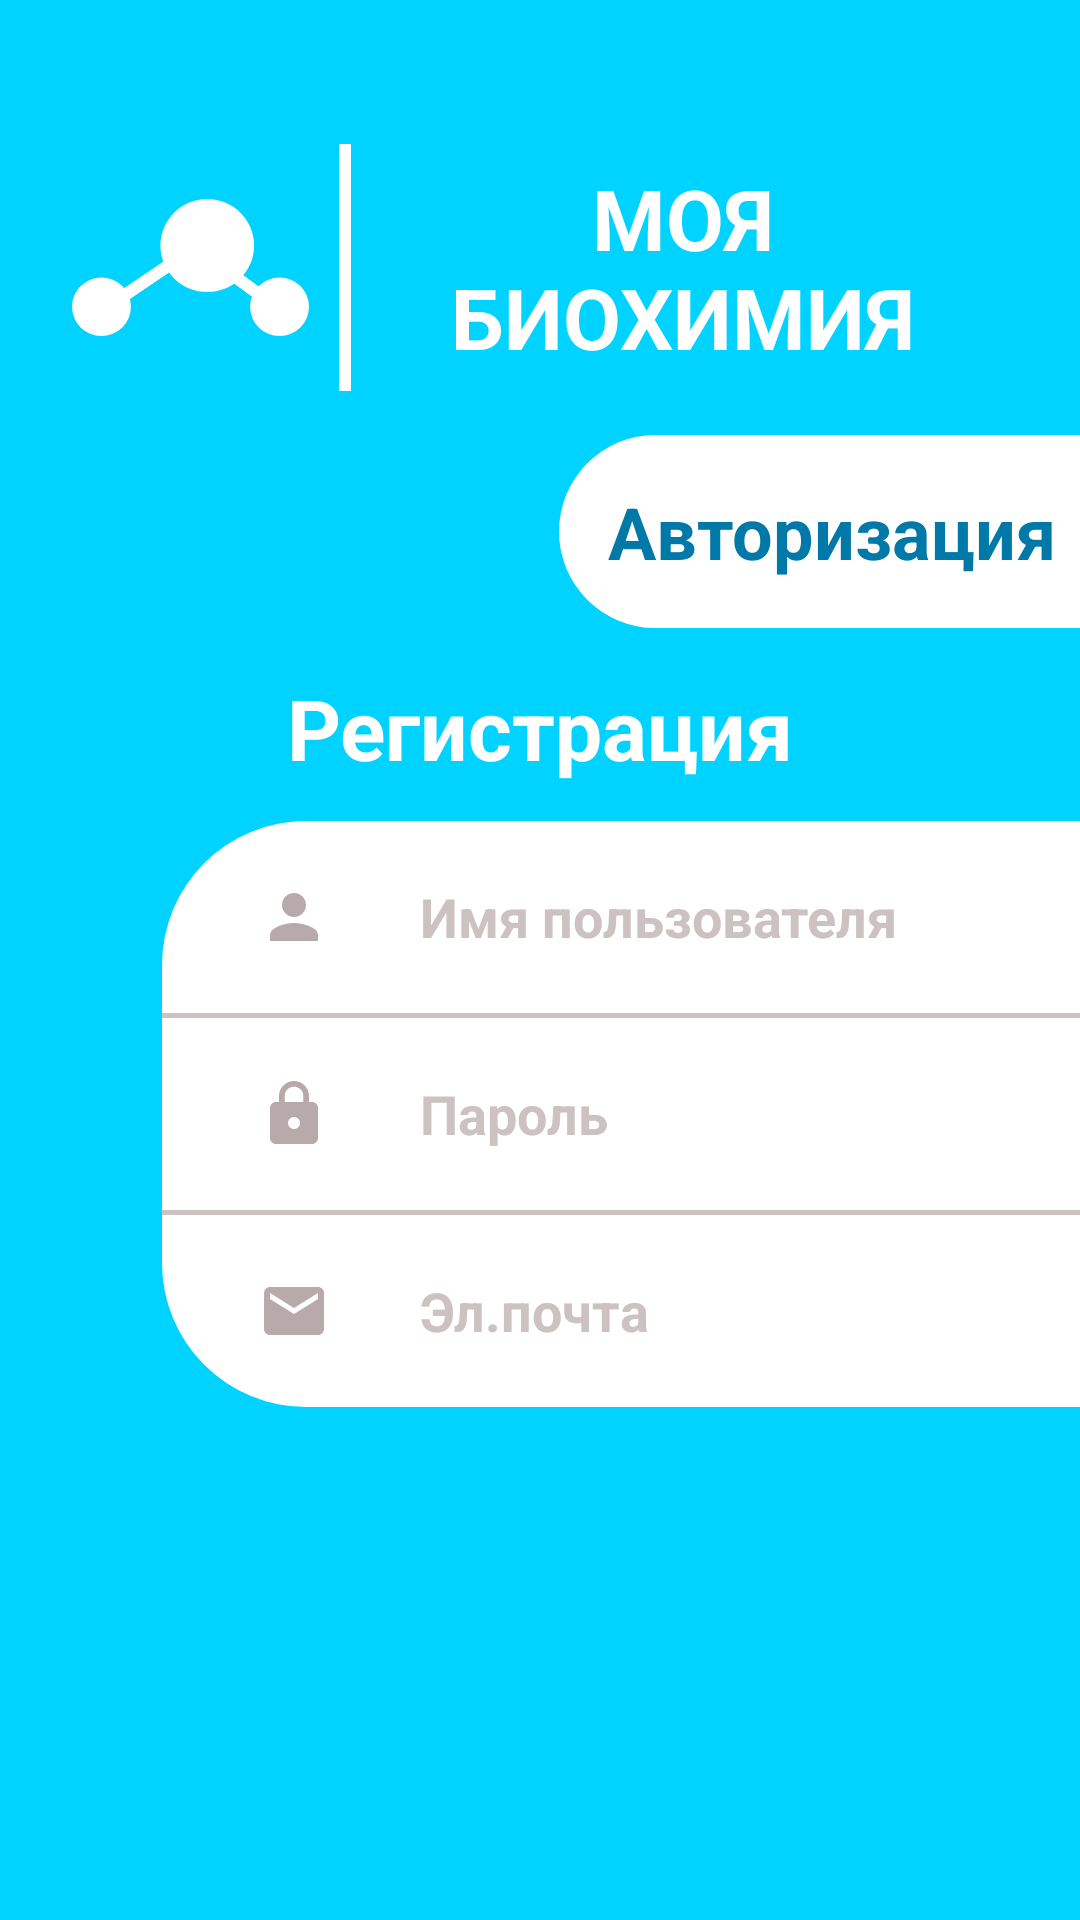

Locate icon controls on the screen. Image size 1080px x 1920px, boxes as (x1, y1, x2, y2).
email: (264, 1287, 324, 1335)
lock: (270, 1081, 318, 1144)
person: (270, 893, 318, 941)
